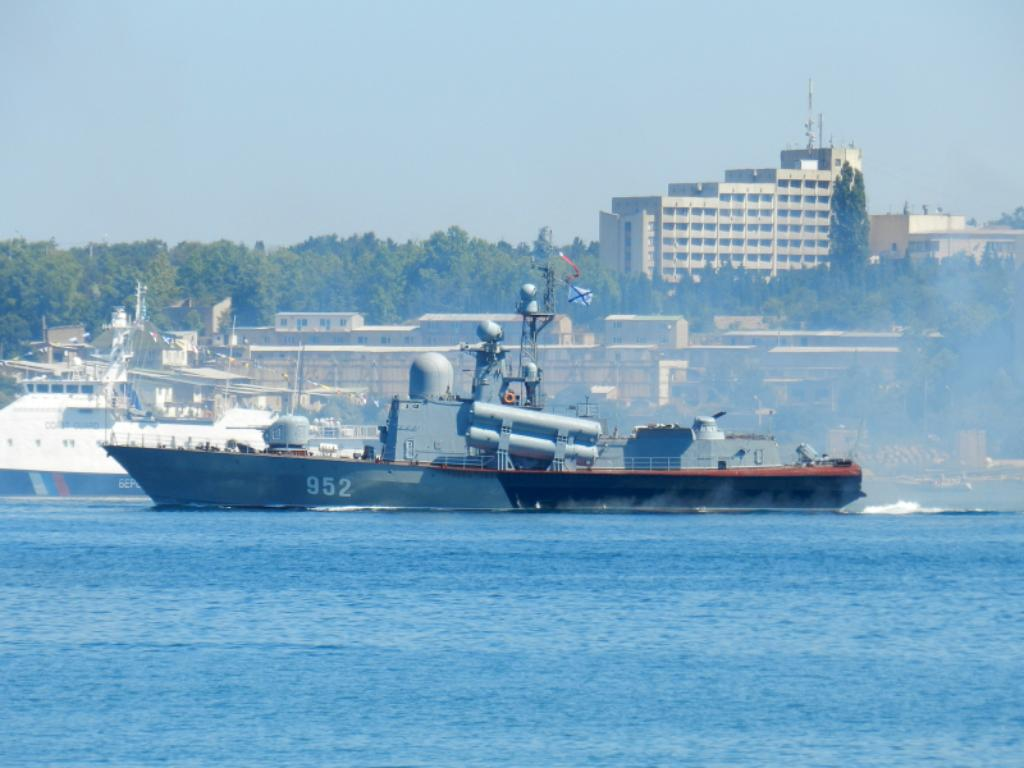Warship: (97, 229, 867, 511)
